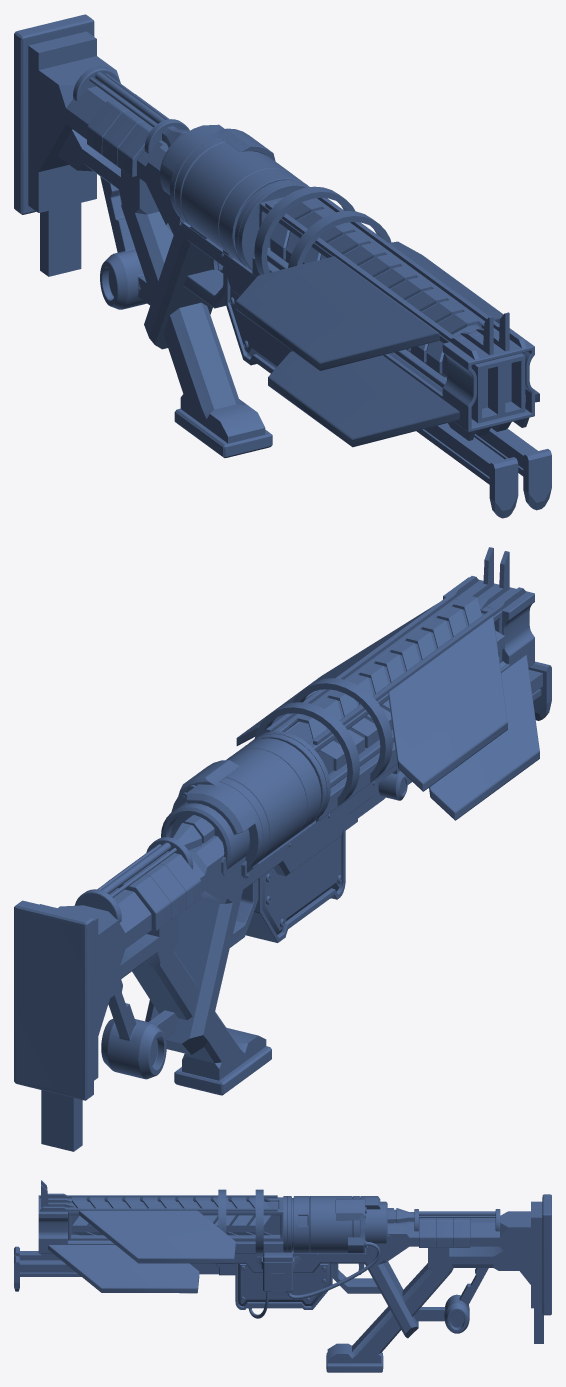
Rendered from Weapon_Rifle.fbx.
The picture shows the model from 3 angles, top to bottom: view 1: azimuth 30°, elevation 25°; view 2: azimuth 150°, elevation 25°; view 3: azimuth 270°, elevation 25°; orthographic projection. The views are drawn at different scales.
Parts seen in each view (by area): view 1: TEMP_Rifle; view 2: TEMP_Rifle; view 3: TEMP_Rifle.
Boxes of the visible parts, <box> form: TEMP_Rifle: <box>14,14,551,518</box>; TEMP_Rifle: <box>14,547,551,1151</box>; TEMP_Rifle: <box>14,1180,551,1372</box>.
Bounding box in the file's own units: 0.3409 × 0.5598 × 1.49.
